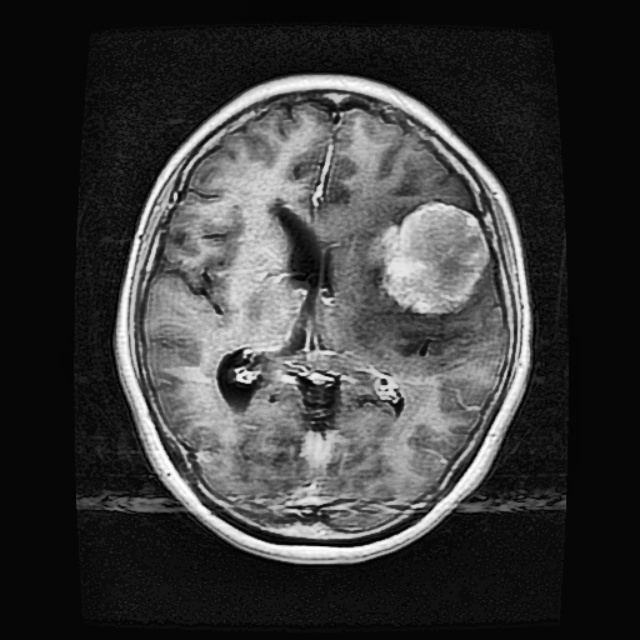Pituitary: (380, 199, 488, 312)
